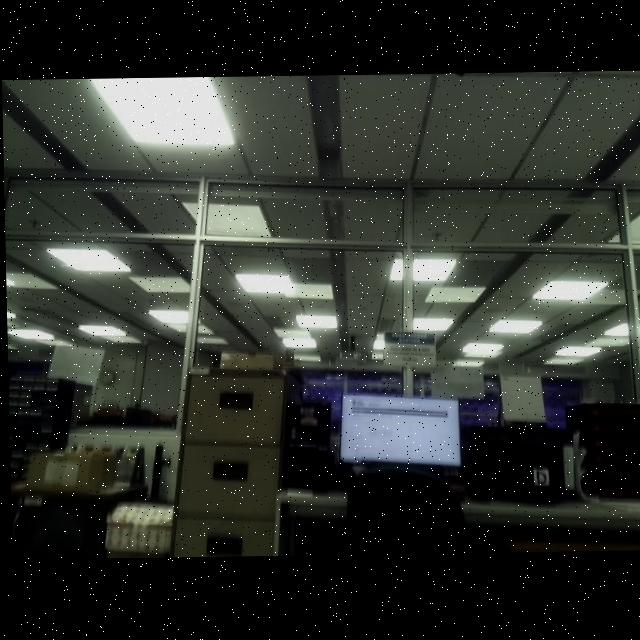D: (293, 519, 350, 557), (532, 469, 546, 487)
